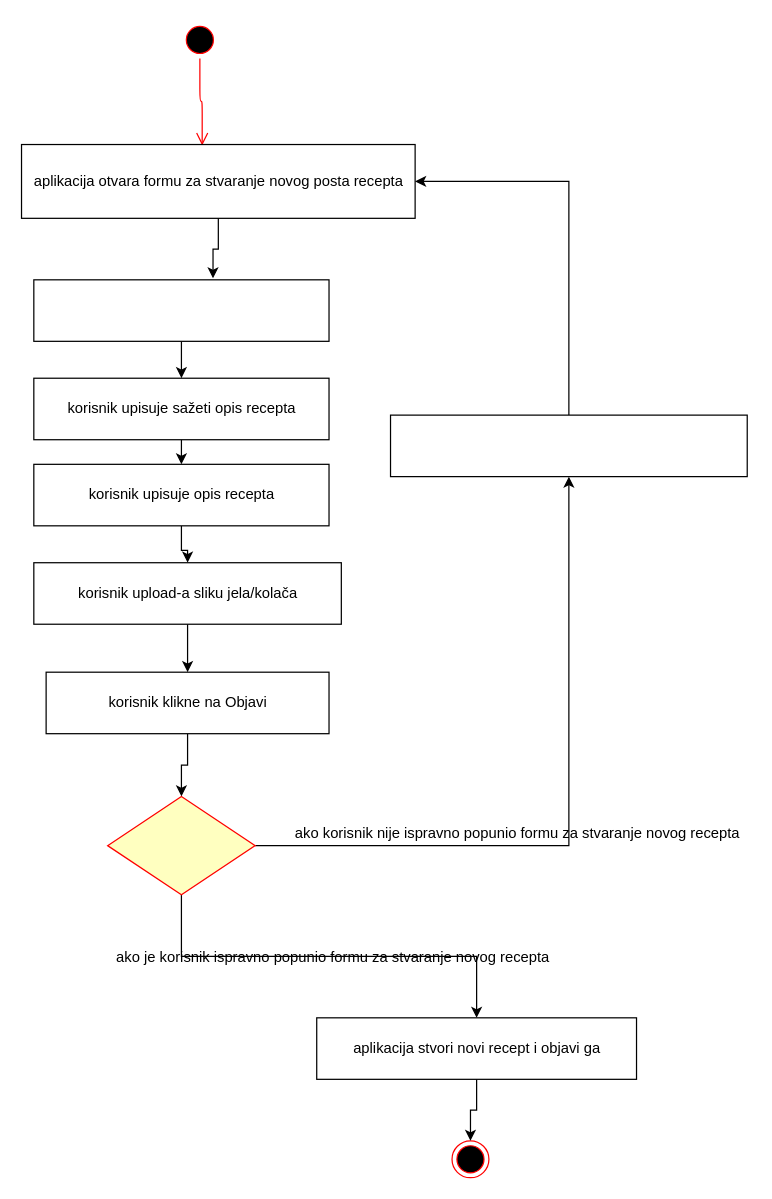
The diagram is 772 pixels wide and 1199 high, and some of its shapes have lost their labels. Here are the shapes that lost their labels. From the top down, the centre of each, then its label:
At (x=181, y=310): "korisnik upisuje naziv recepta".
At (x=568, y=445): "aplikacija ispiše poruku o pogrešci pri unosu".
At (x=180, y=845): "aplikacija provjerava unos".
